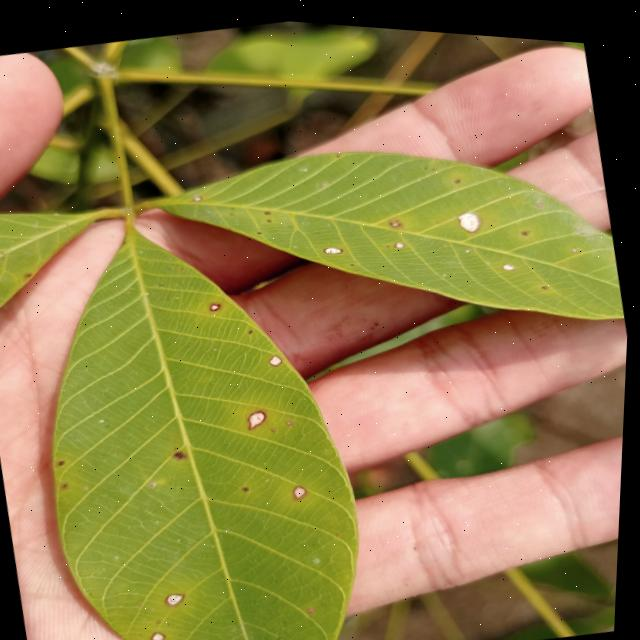Colletotrichum: (178, 447, 191, 456), (247, 482, 254, 488), (62, 459, 70, 464), (67, 482, 72, 487), (252, 326, 256, 330)
